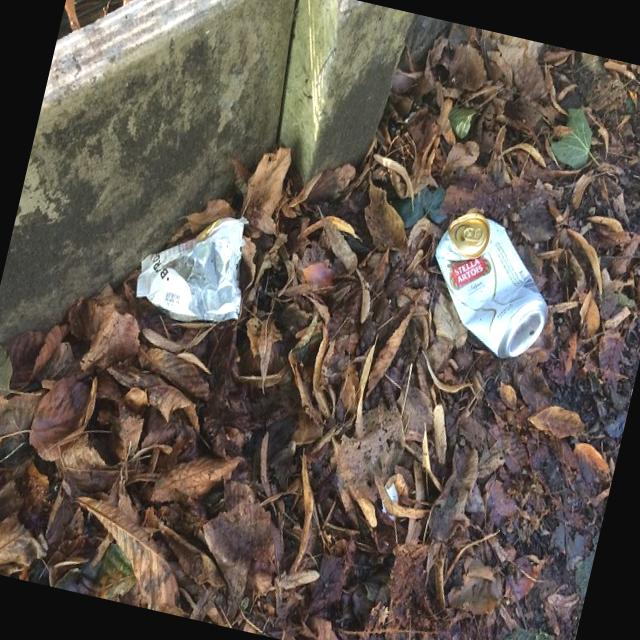Recycle: (414, 200, 568, 362)
Trash: (124, 196, 258, 332)
